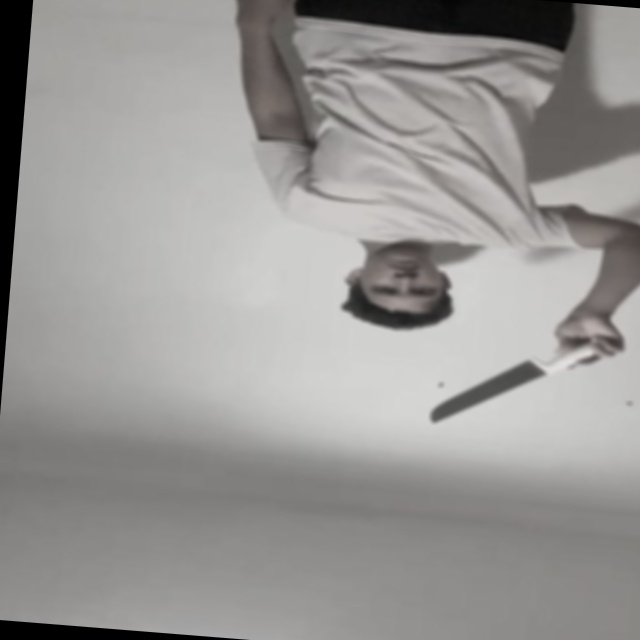Sharp-Object: (428, 359, 543, 434)
